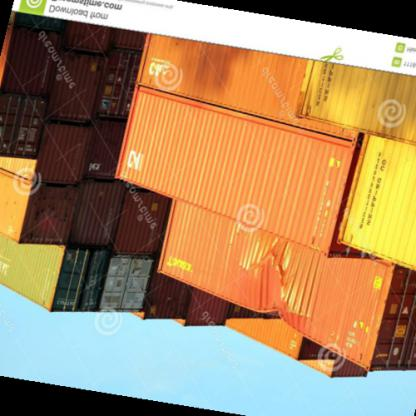Damage: (249, 252, 308, 328)
